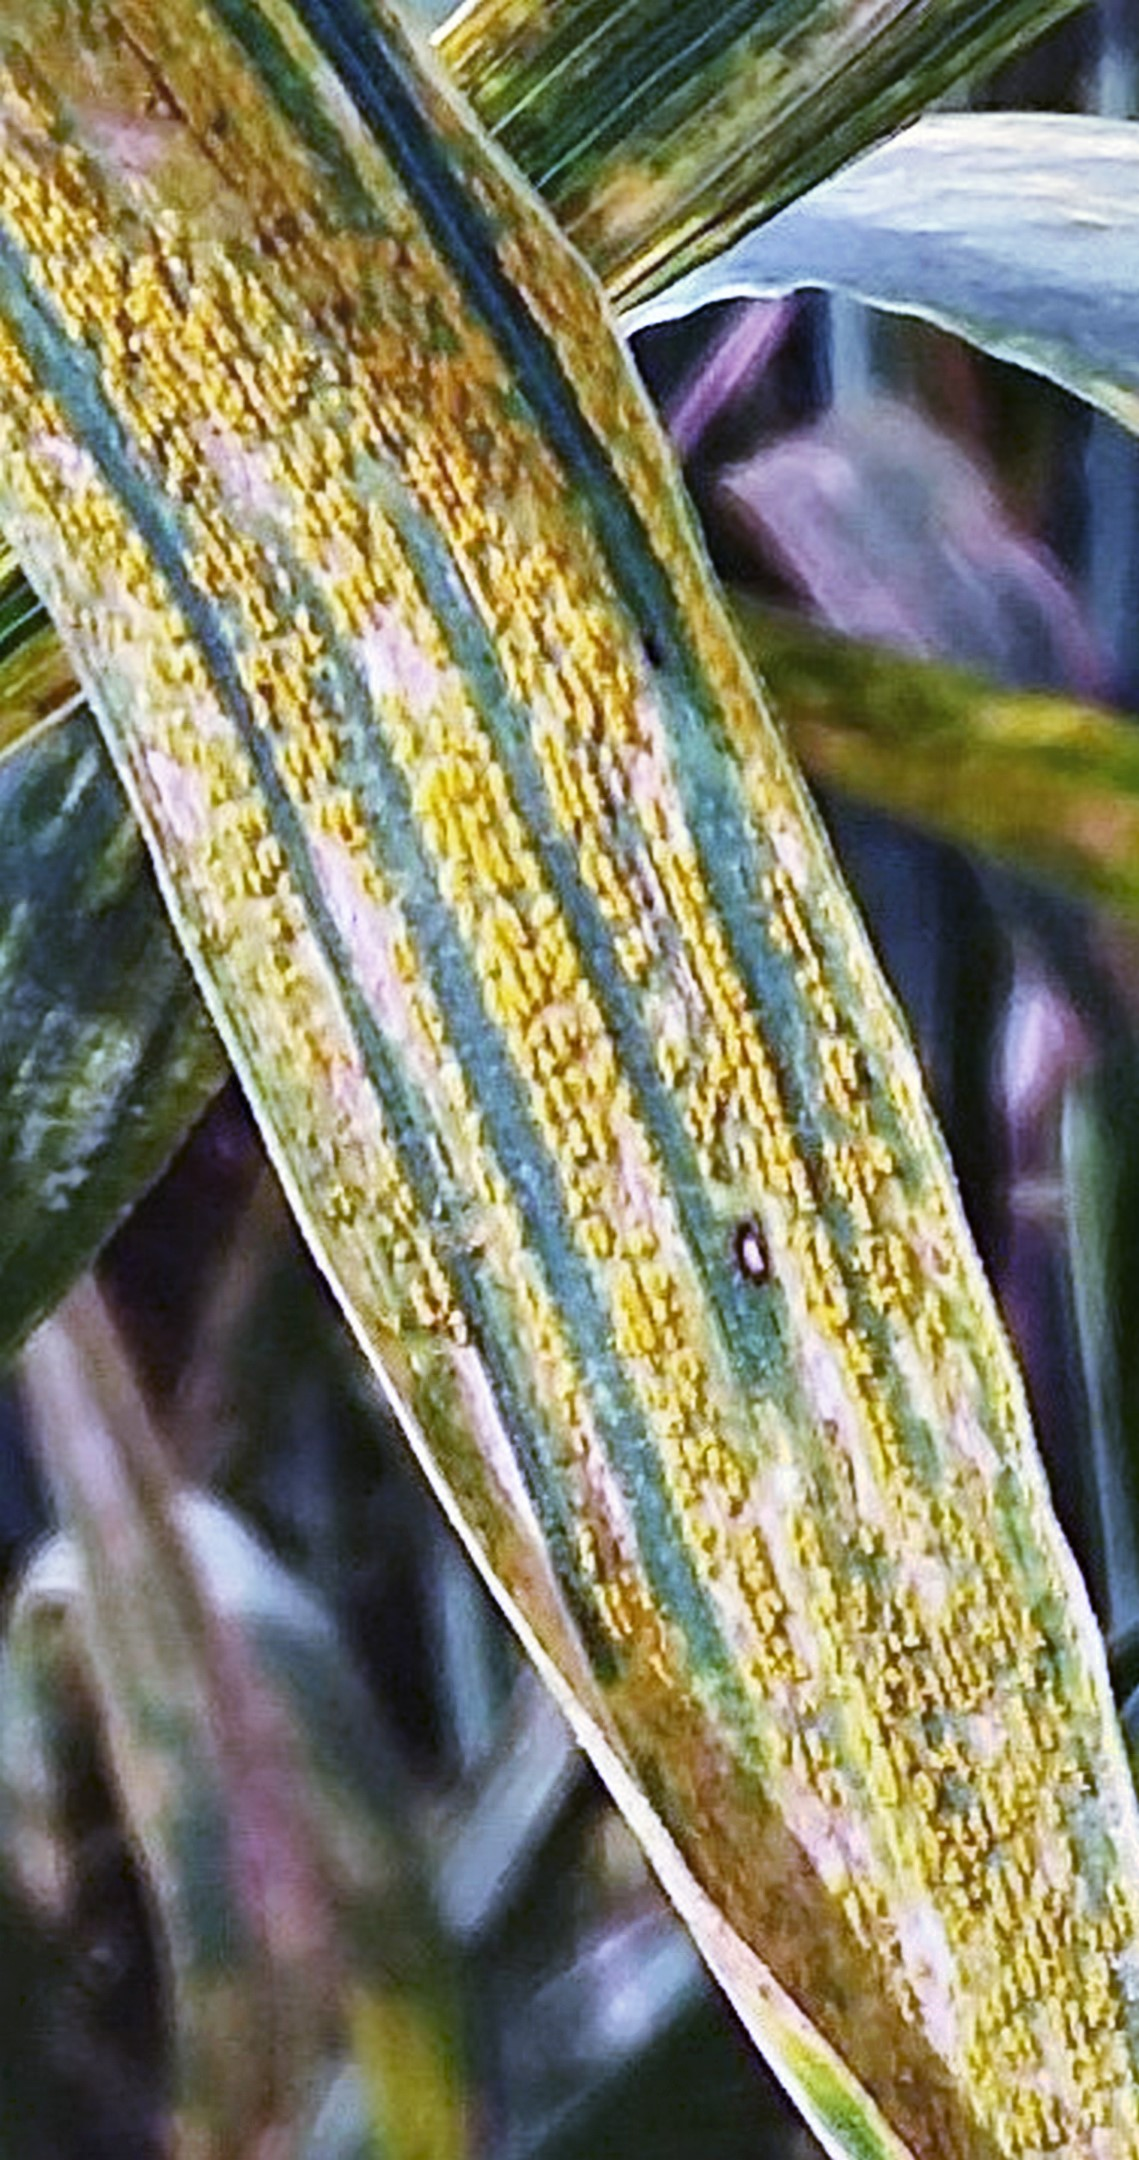Leaf Rust: (33, 229, 1139, 2040)
